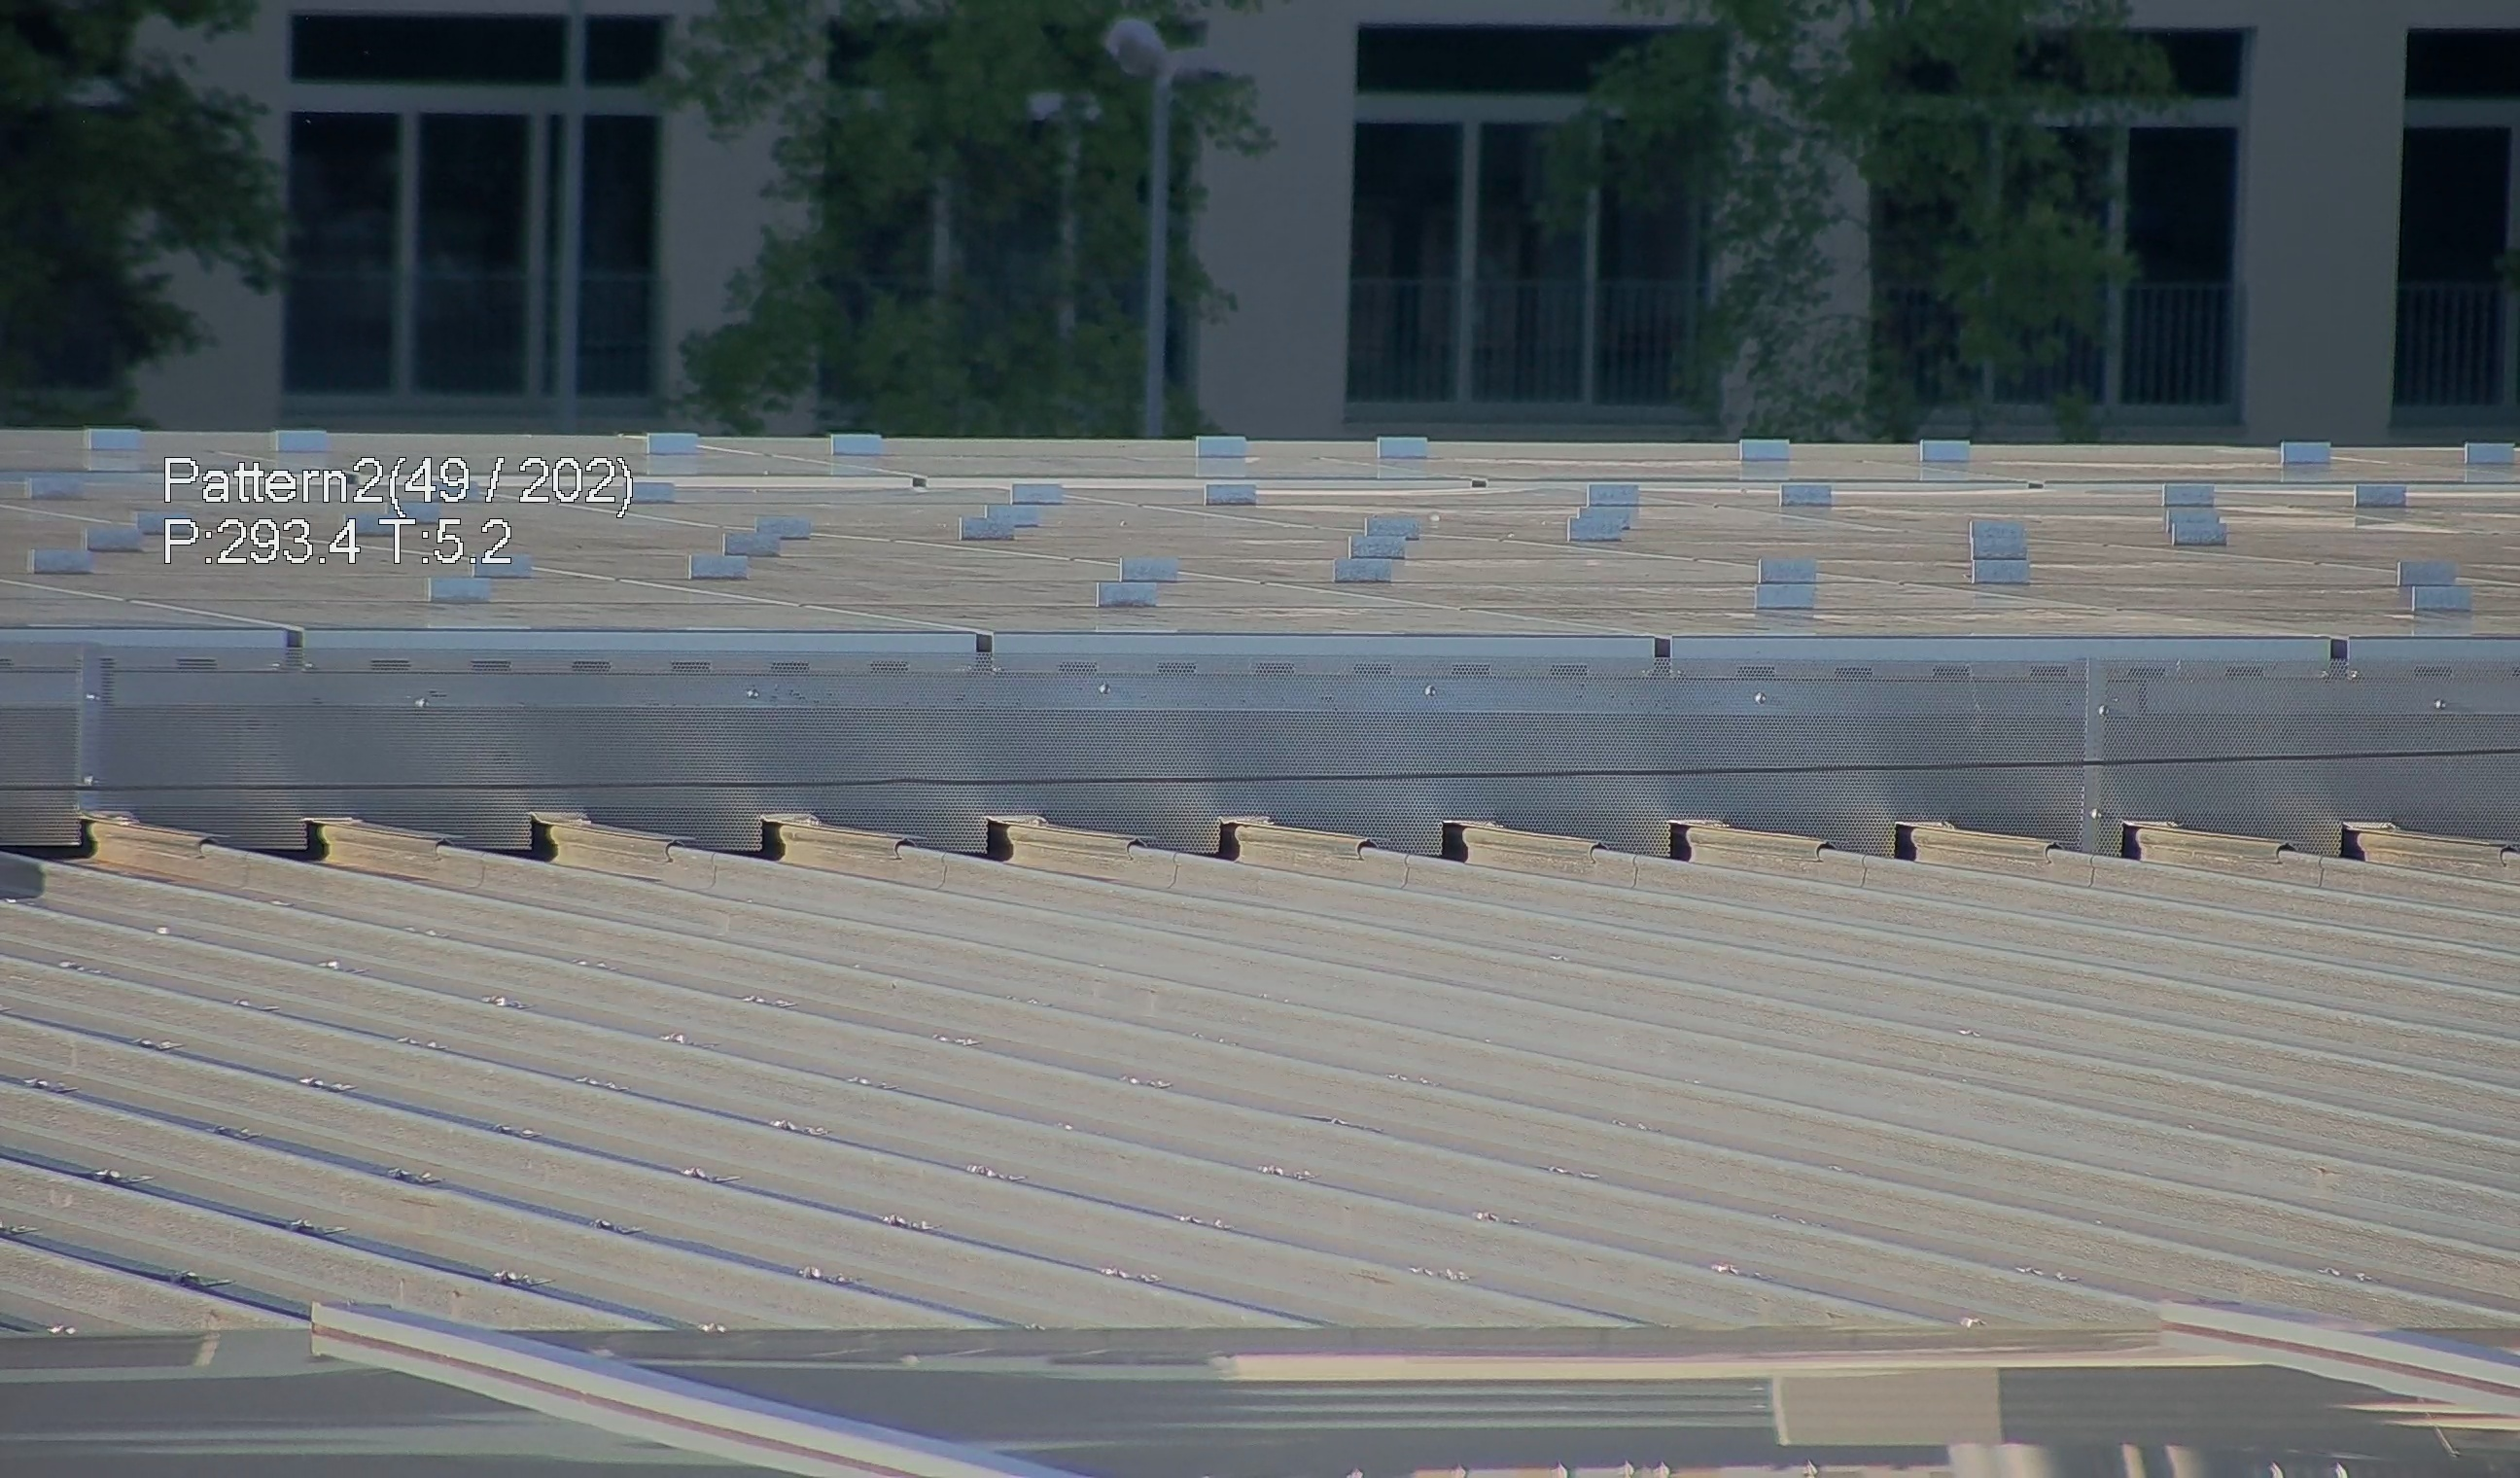Other: (498, 809, 549, 866)
